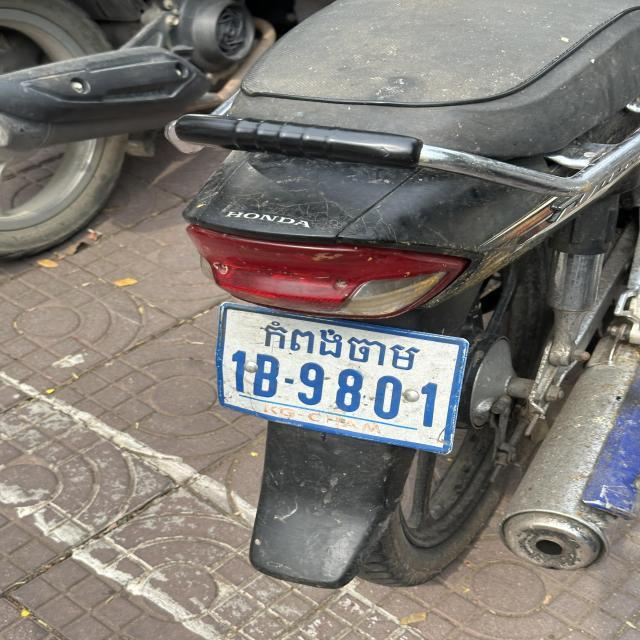Kampong_Cham: (260, 321, 420, 374)
